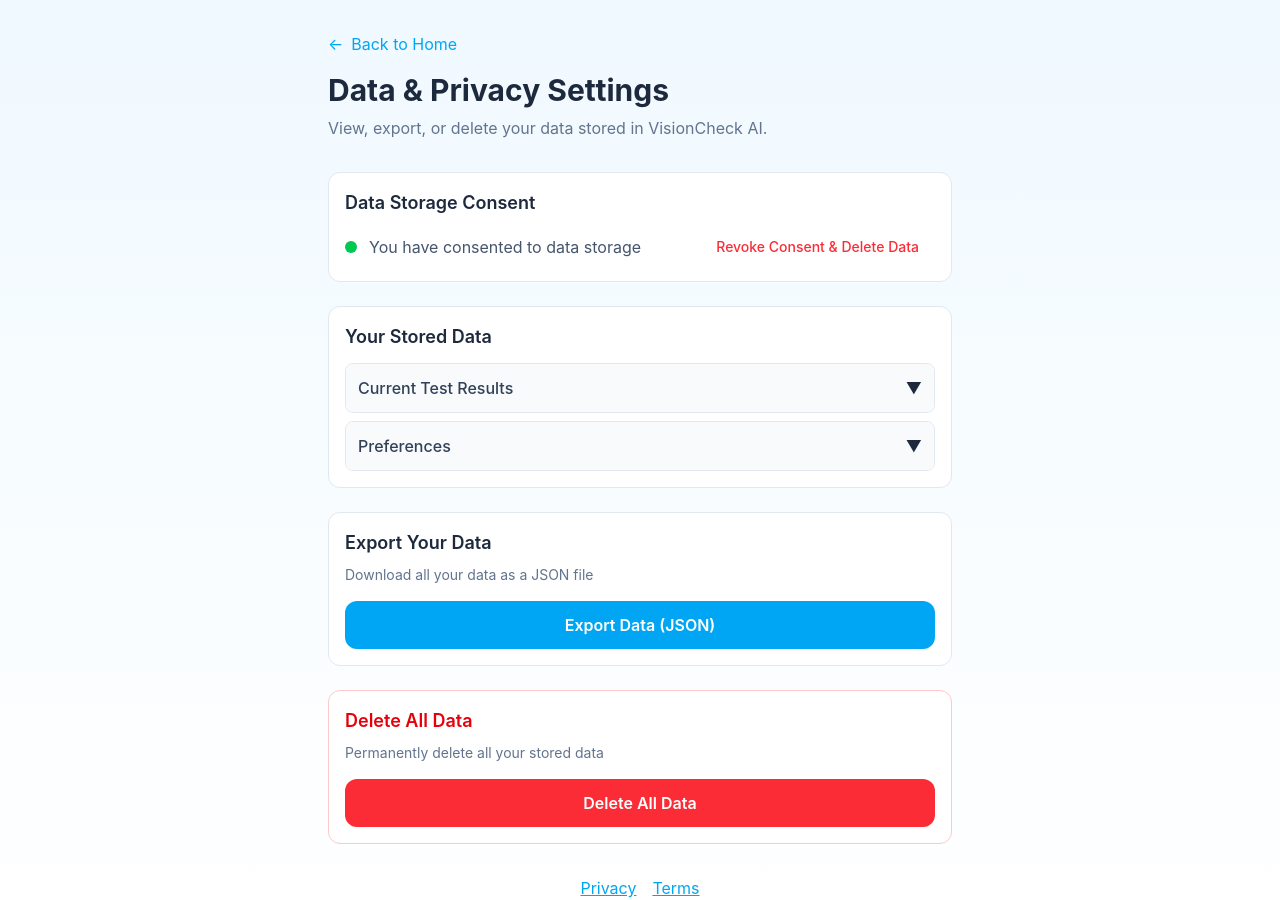
it: DataSettings › should expand data section when clicked
Click the text "Current Test Results": (436, 388) 358,376 -> 513,400
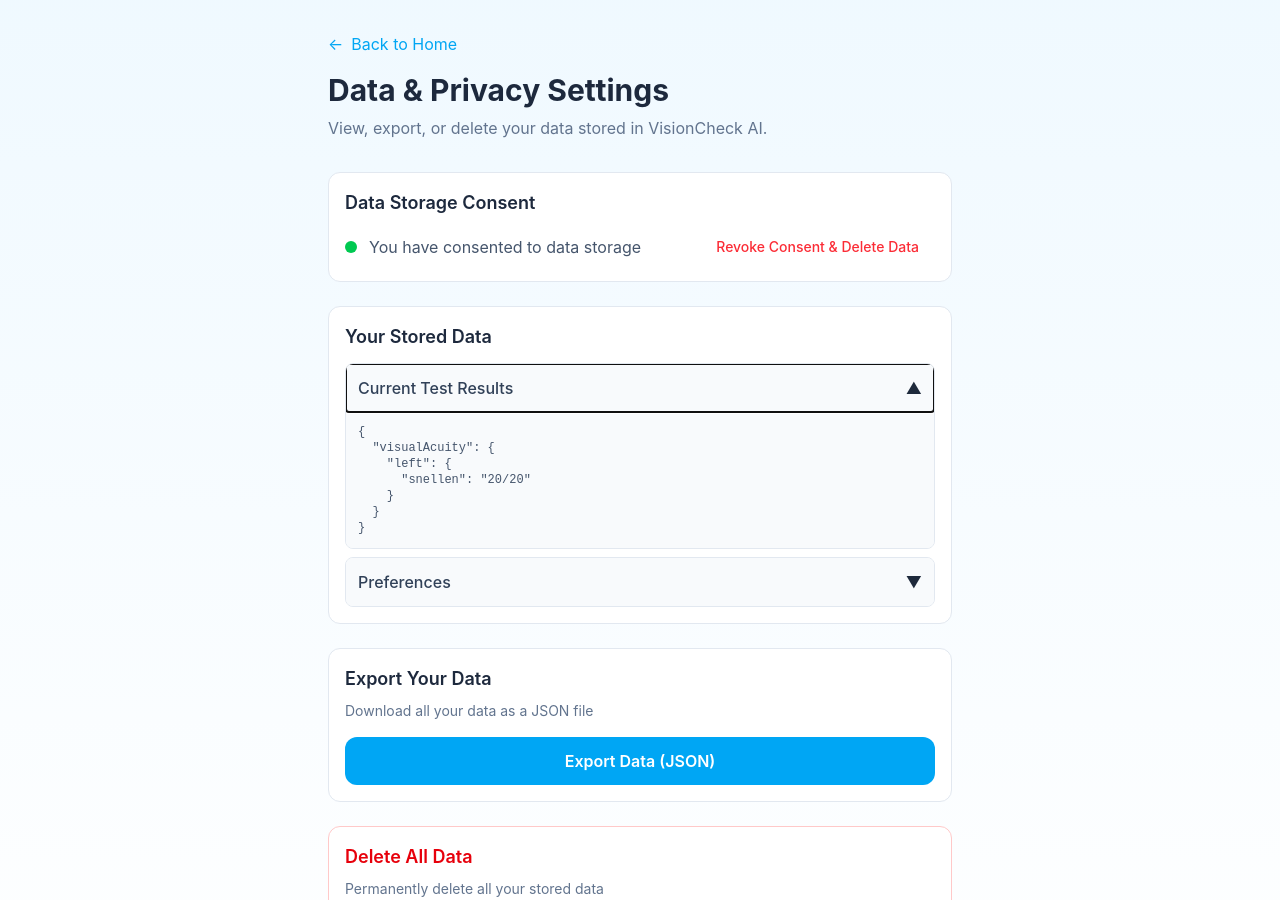
Check: the text "{ \"visualAcuity\": { \"left\": { \"snellen\": \"20/20\" } } }" is shown, box 346,412 -> 934,548
